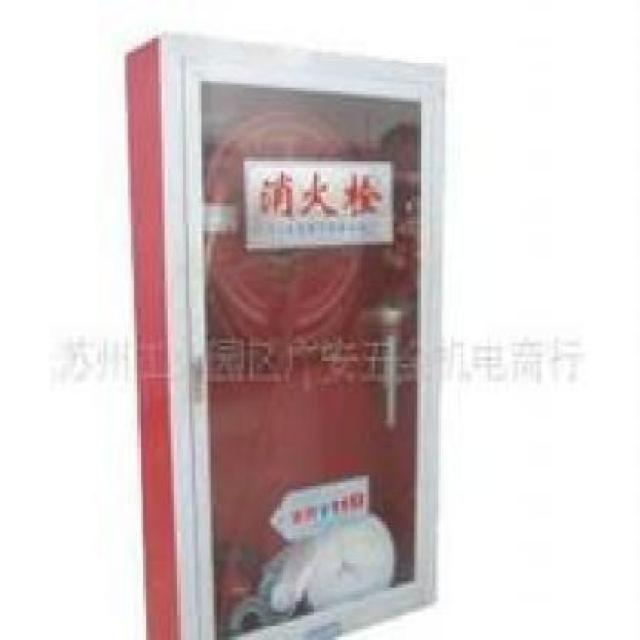firehydrant: (118, 24, 447, 640)
